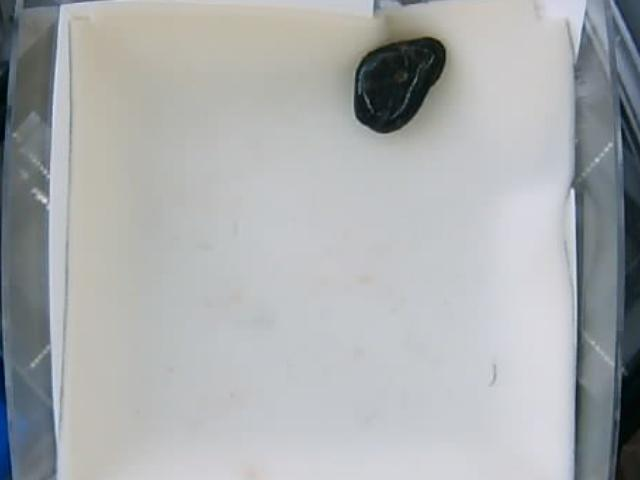Pebble: (354, 35, 446, 133)
